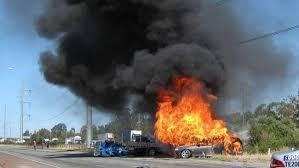fire: (150, 78, 241, 156)
